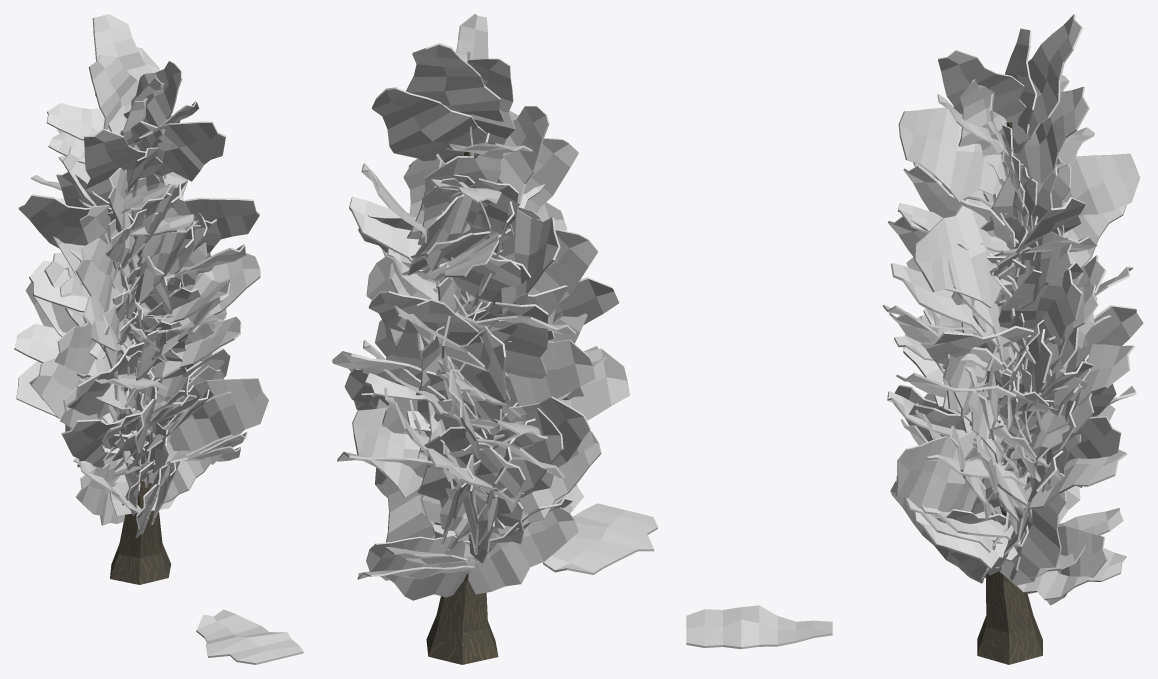
Rendered from tree 01.fbx.
3 views of the same model, side by side, from view 1: azimuth 30°, elevation 25°; view 2: azimuth 150°, elevation 25°; view 3: azimuth 270°, elevation 25° (orthographic). The views are drawn at different scales.
Parts seen in each view (by area): view 1: Cube|tree branch 01|Dupli|64, tree branch 01, Cube, Cube|tree branch 01|Dupli|196, Cube|tree branch 01|Dupli|174, Cube|tree branch 01|Dupli|188, Cube|tree branch 01|Dupli|141, Cube|tree branch 01|Dupli|195, Cube|tree branch 01|Dupli|197, Cube|tree branch 01|Dupli|171, Cube|tree branch 01|Dupli|201, Cube|tree branch 01|Dupli|61 (+58 smaller); view 2: Cube|tree branch 01|Dupli|172, tree branch 01, Cube|tree branch 01|Dupli|36, Cube|tree branch 01|Dupli|195, Cube, Cube|tree branch 01|Dupli|19, Cube|tree branch 01|Dupli|96, Cube|tree branch 01|Dupli|103, Cube|tree branch 01|Dupli|188, Cube|tree branch 01|Dupli|85, Cube|tree branch 01|Dupli|90, Cube|tree branch 01|Dupli|174 (+60 smaller); view 3: Cube|tree branch 01|Dupli|141, Cube|tree branch 01|Dupli|196, tree branch 01, Cube|tree branch 01|Dupli|64, Cube, Cube|tree branch 01|Dupli|175, Cube|tree branch 01|Dupli|195, Cube|tree branch 01|Dupli|172, Cube|tree branch 01|Dupli|, Cube|tree branch 01|Dupli|201, Cube|tree branch 01|Dupli|123, Cube|tree branch 01|Dupli|142 (+53 smaller).
Boxes of the visible parts, x1,y1,x2,y2 form: Cube|tree branch 01|Dupli|64: (169, 378, 268, 464); tree branch 01: (196, 609, 303, 664); Cube: (110, 481, 171, 584); Cube|tree branch 01|Dupli|196: (120, 121, 226, 181); Cube|tree branch 01|Dupli|174: (83, 128, 162, 201); Cube|tree branch 01|Dupli|188: (18, 194, 144, 261); Cube|tree branch 01|Dupli|141: (142, 192, 259, 239); Cube|tree branch 01|Dupli|195: (92, 14, 152, 133); Cube|tree branch 01|Dupli|197: (88, 55, 138, 134); Cube|tree branch 01|Dupli|171: (75, 238, 130, 336); Cube|tree branch 01|Dupli|201: (131, 61, 182, 151); Cube|tree branch 01|Dupli|61: (61, 418, 137, 467); Cube|tree branch 01|Dupli|172: (372, 87, 486, 162); tree branch 01: (543, 503, 657, 574); Cube|tree branch 01|Dupli|36: (468, 504, 578, 594); Cube|tree branch 01|Dupli|195: (406, 43, 503, 121); Cube: (426, 152, 498, 664); Cube|tree branch 01|Dupli|19: (366, 534, 477, 600); Cube|tree branch 01|Dupli|96: (506, 339, 595, 406); Cube|tree branch 01|Dupli|103: (352, 407, 422, 497); Cube|tree branch 01|Dupli|188: (487, 209, 560, 314); Cube|tree branch 01|Dupli|85: (472, 302, 548, 378); Cube|tree branch 01|Dupli|90: (393, 298, 483, 374); Cube|tree branch 01|Dupli|174: (497, 106, 549, 206); Cube|tree branch 01|Dupli|141: (913, 198, 1012, 307); Cube|tree branch 01|Dupli|196: (898, 107, 1006, 201); tree branch 01: (686, 605, 832, 649); Cube|tree branch 01|Dupli|64: (895, 430, 977, 518); Cube: (977, 122, 1042, 664); Cube|tree branch 01|Dupli|175: (1063, 153, 1140, 238); Cube|tree branch 01|Dupli|195: (1012, 14, 1082, 144); Cube|tree branch 01|Dupli|172: (1005, 86, 1089, 187); Cube|tree branch 01|Dupli|: (999, 472, 1066, 585); Cube|tree branch 01|Dupli|201: (938, 50, 1026, 128); Cube|tree branch 01|Dupli|123: (1029, 344, 1134, 434); Cube|tree branch 01|Dupli|142: (903, 165, 1018, 243).
Bounding box in the file's own units: 1472 × 3846 × 2556.
